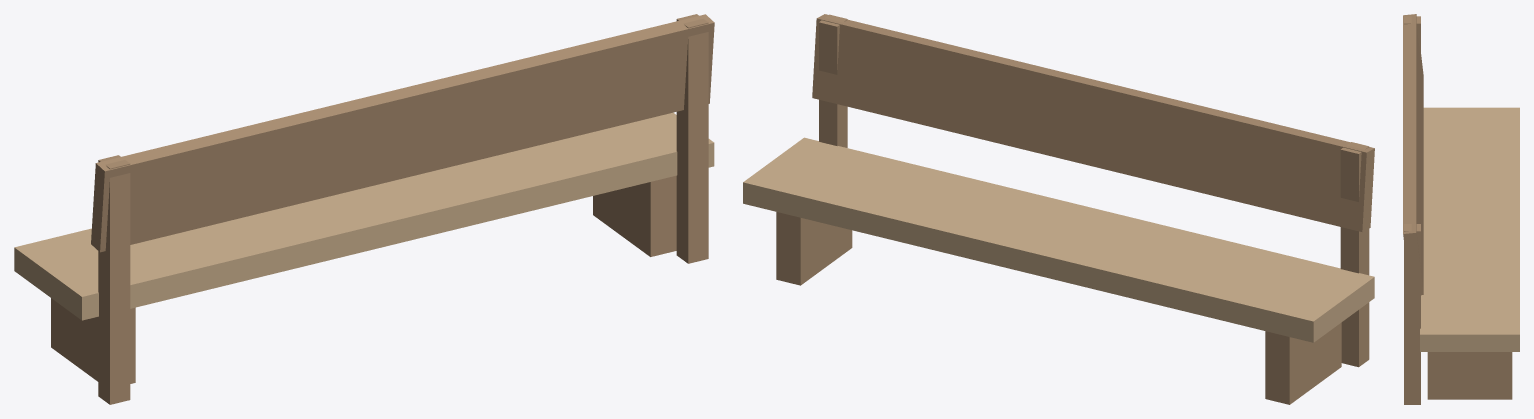
File: bench_v25.glb
3 views of the same model, side by side, from view 1: azimuth 30°, elevation 25°; view 2: azimuth 150°, elevation 25°; view 3: azimuth 270°, elevation 25° (orthographic). The views are drawn at different scales.
Visible parts, largest first — view 1: bench; view 2: bench; view 3: bench.
Boxes of the visible parts, <box> form: bench: <box>14,14,714,404</box>; bench: <box>743,14,1374,404</box>; bench: <box>1403,14,1519,404</box>.
Size of the model in its own units: 1.4 by 0.5013 by 0.3043.
